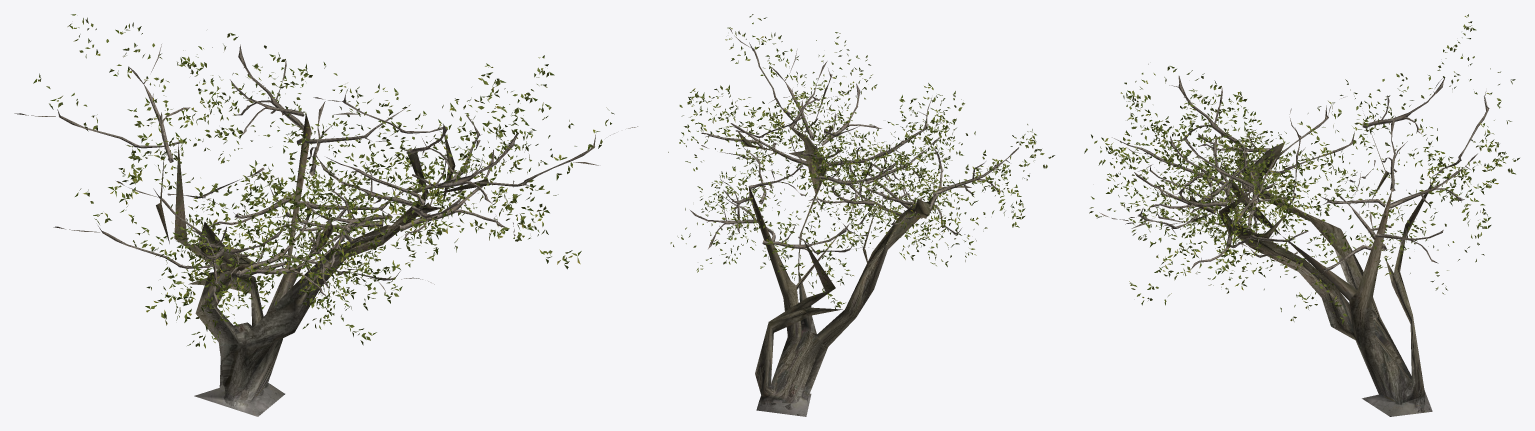
File: island_tree_02.glb
3 views of the same model, side by side, from view 1: azimuth 30°, elevation 25°; view 2: azimuth 150°, elevation 25°; view 3: azimuth 270°, elevation 25° (orthographic). The views are drawn at different scales.
Visible parts, largest first — view 1: island_tree_02_LOD0; view 2: island_tree_02_LOD0; view 3: island_tree_02_LOD0.
Part boxes in pixels (x1=…): island_tree_02_LOD0: x1=14, y1=14, x2=637, y2=416; island_tree_02_LOD0: x1=668, y1=14, x2=1054, y2=416; island_tree_02_LOD0: x1=1084, y1=14, x2=1519, y2=416.
Bounding box in the file's own units: 4.21 × 3.38 × 4.03.
Materials: 3 (3 with a texture image).
